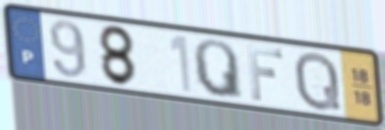1: (169, 34, 194, 95)
8: (96, 23, 140, 89)
9: (47, 18, 89, 81)
F: (245, 43, 286, 103)
Q: (190, 37, 246, 103), (292, 49, 344, 113)
